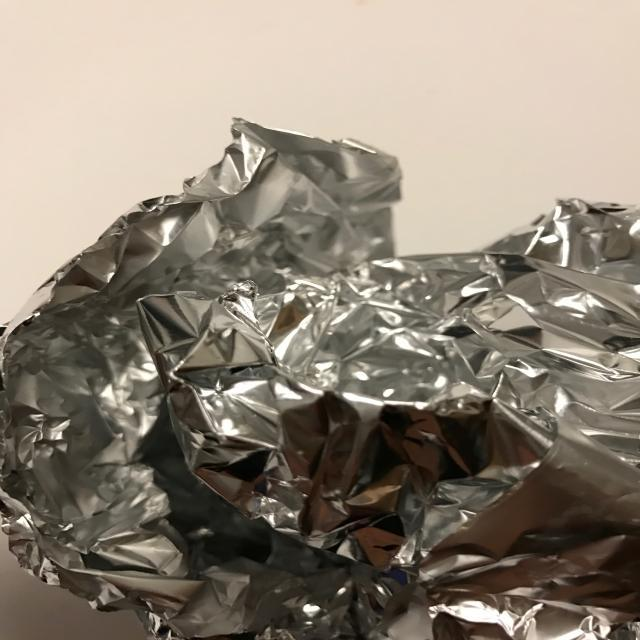metal: (2, 111, 640, 640)
